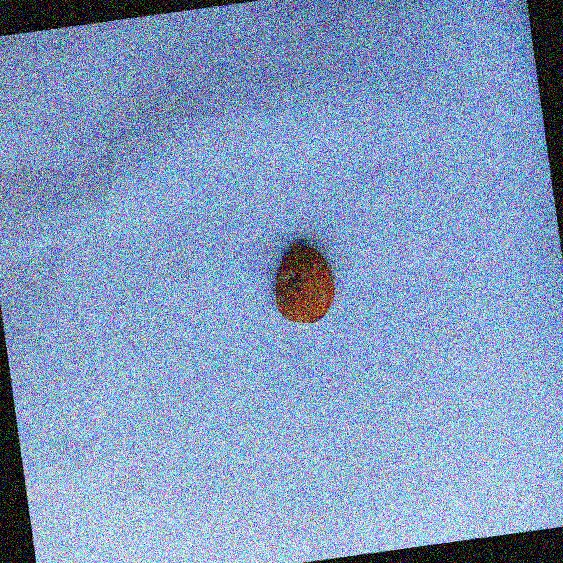grade3: (264, 236, 341, 331)
